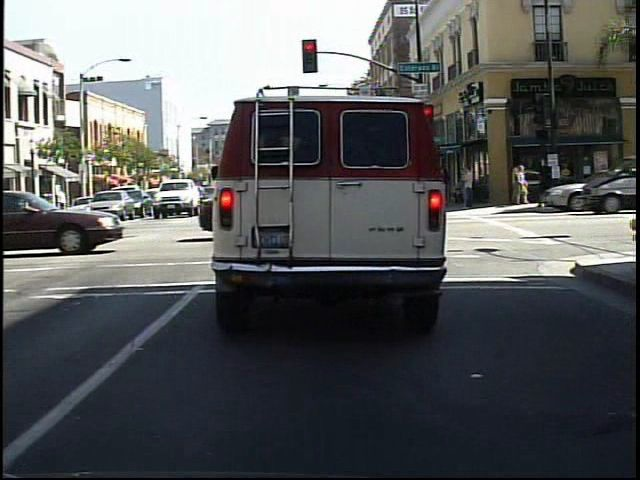person: (534, 156, 555, 212), (511, 163, 531, 208)
